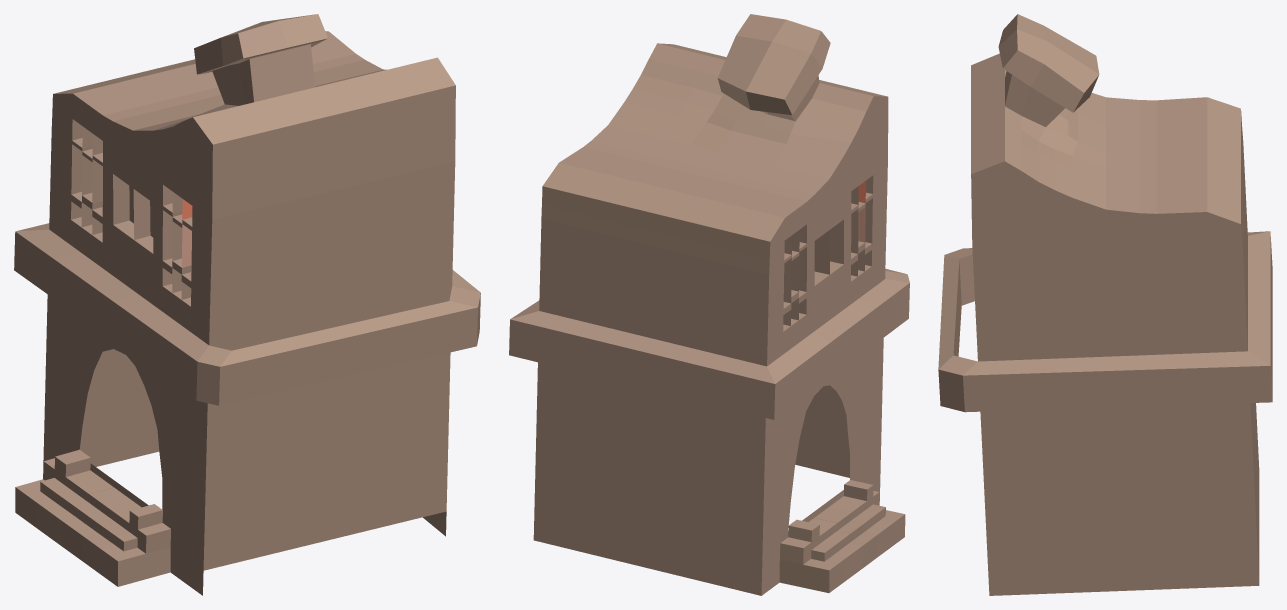
Rendered from Building_One.fbx.
The picture shows the model from 3 angles, left to right: view 1: azimuth 30°, elevation 25°; view 2: azimuth 150°, elevation 25°; view 3: azimuth 270°, elevation 25°; orthographic projection. The views are drawn at different scales.
Visible parts, largest first — view 1: Plane.002; view 2: Plane.002; view 3: Plane.002.
Part boxes in pixels (x1,y1,x2,y2): Plane.002: (14, 14, 480, 595); Plane.002: (509, 14, 909, 595); Plane.002: (938, 14, 1272, 595).
Size of the model in its own units: 1831 by 2868 by 1743.
